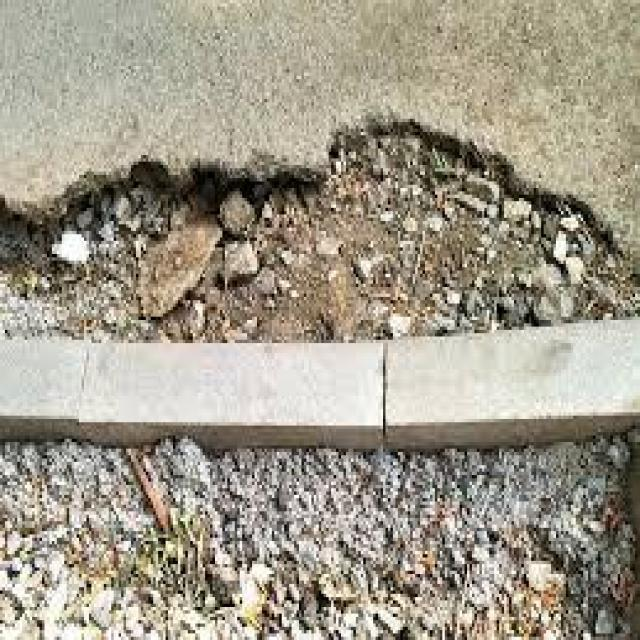curb: (14, 328, 386, 462), (357, 329, 640, 466)
